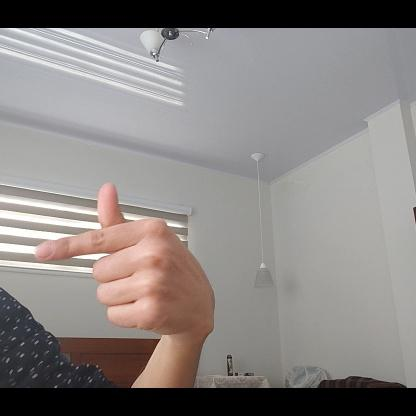T: (34, 181, 227, 335)
